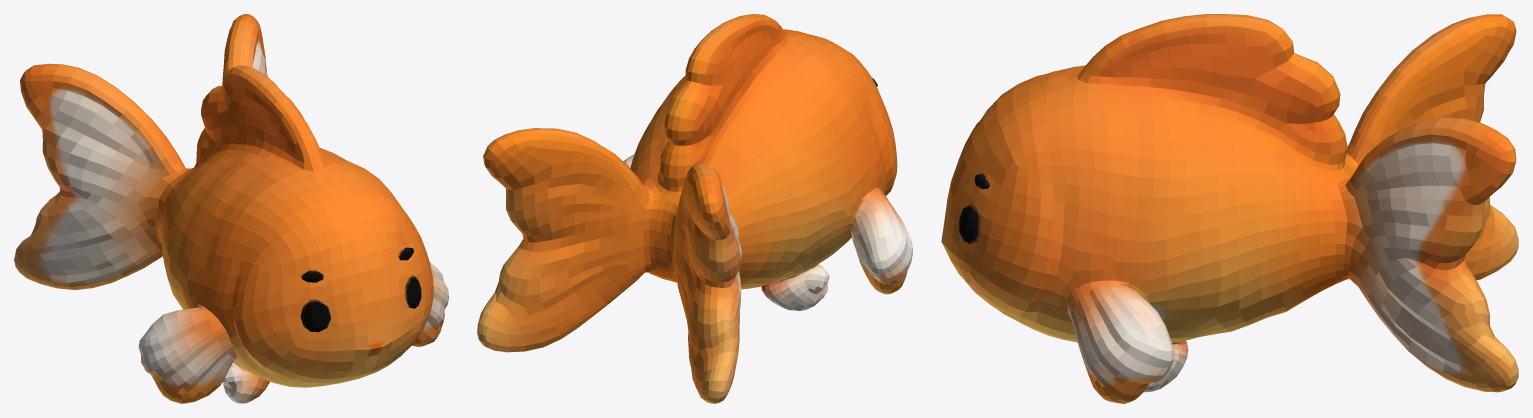
File: goldfish.glb
3 views of the same model, side by side, from view 1: azimuth 30°, elevation 25°; view 2: azimuth 150°, elevation 25°; view 3: azimuth 270°, elevation 25° (orthographic). The views are drawn at different scales.
Visible parts, largest first — view 1: Goldfish; view 2: Goldfish; view 3: Goldfish.
Part boxes in pixels (x1,y1,x2,y2): Goldfish: [14, 14, 448, 403]; Goldfish: [477, 14, 912, 403]; Goldfish: [941, 14, 1518, 403].
Bounding box in the file's own units: 1.35 × 1.26 × 1.9.
Materials: 1 (1 with a texture image).
